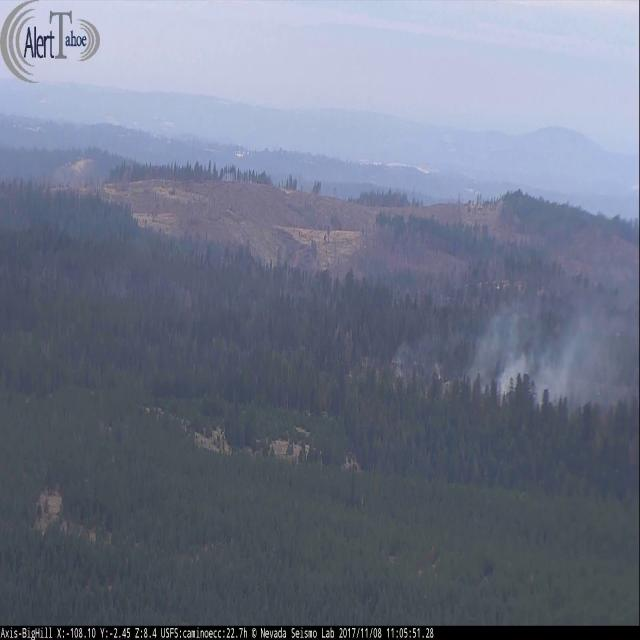smoke: (386, 248, 640, 412)
